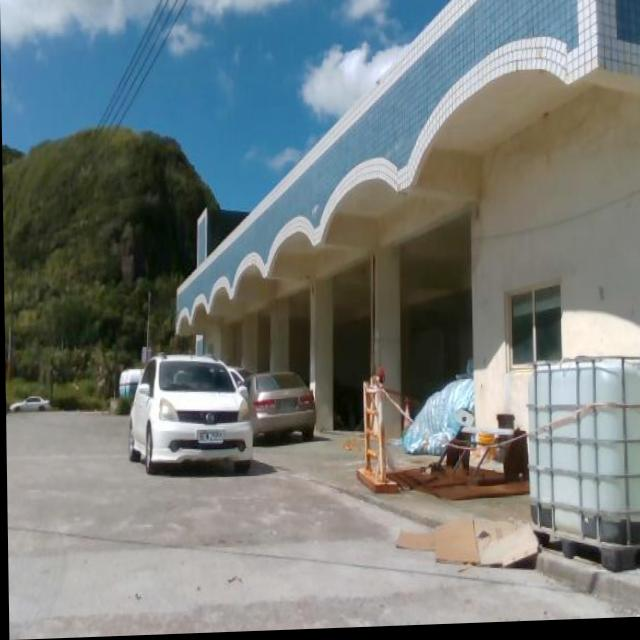pollute: (524, 363, 640, 580), (384, 427, 524, 509), (393, 517, 537, 574), (397, 374, 472, 461)
